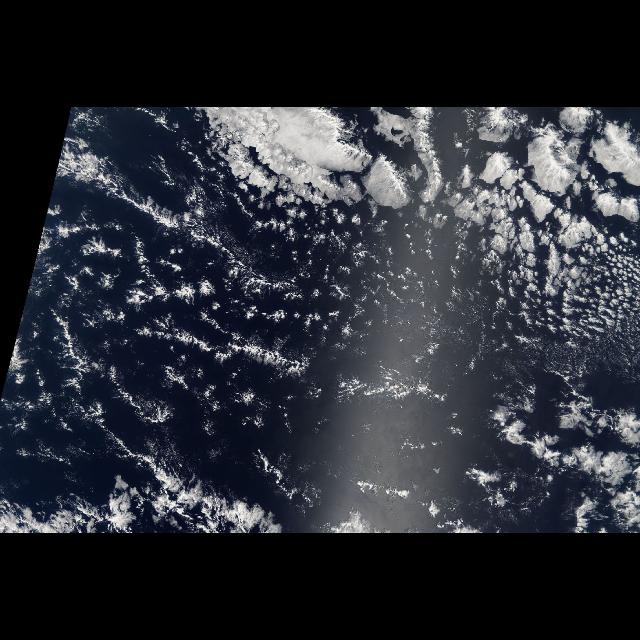Fish: (34, 152, 268, 298), (483, 393, 639, 485), (137, 317, 309, 379)
Flower: (51, 108, 640, 422)
Sugar: (528, 308, 640, 398)
